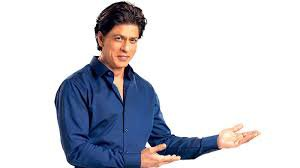noMask: (86, 2, 152, 70)
